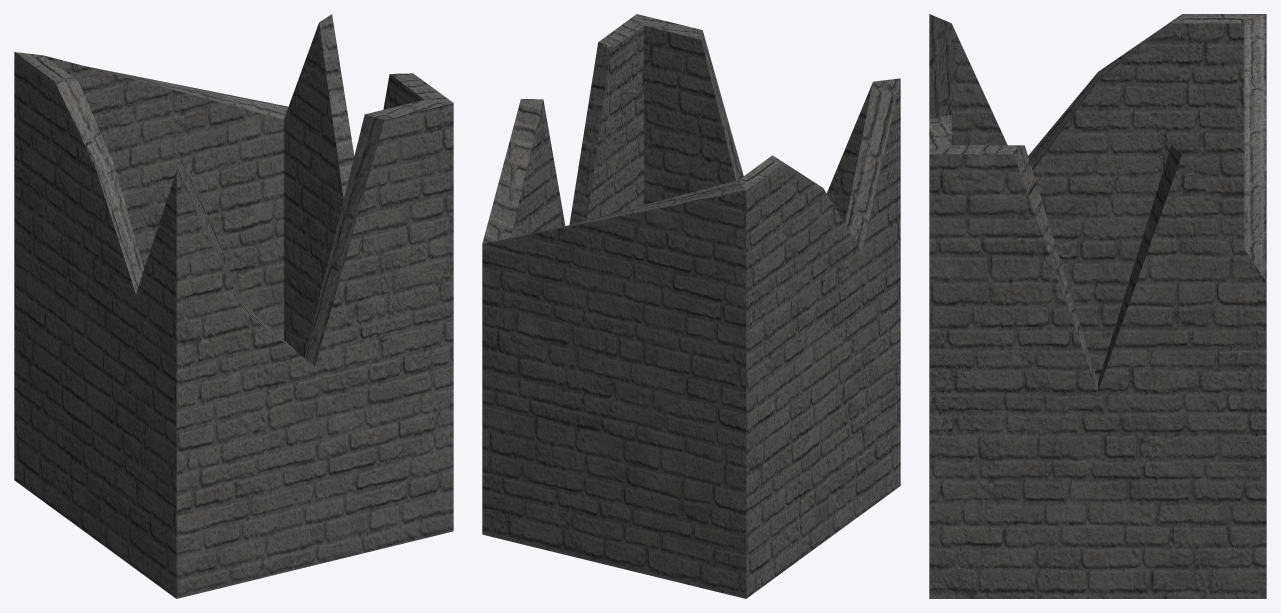
The model's file is Pilar.glb.
3 views of the same model, side by side, from view 1: azimuth 30°, elevation 25°; view 2: azimuth 150°, elevation 25°; view 3: azimuth 270°, elevation 25° (orthographic). The views are drawn at different scales.
Visible parts, largest first — view 1: Cube; view 2: Cube; view 3: Cube.
Boxes of the visible parts, x1,y1,x2,y2 form: Cube: (14, 14, 453, 598); Cube: (482, 14, 900, 598); Cube: (929, 14, 1266, 598).
Bounding box in the file's own units: 6.2 × 9.15 × 6.29.
Materials: 1 (1 with a texture image).
